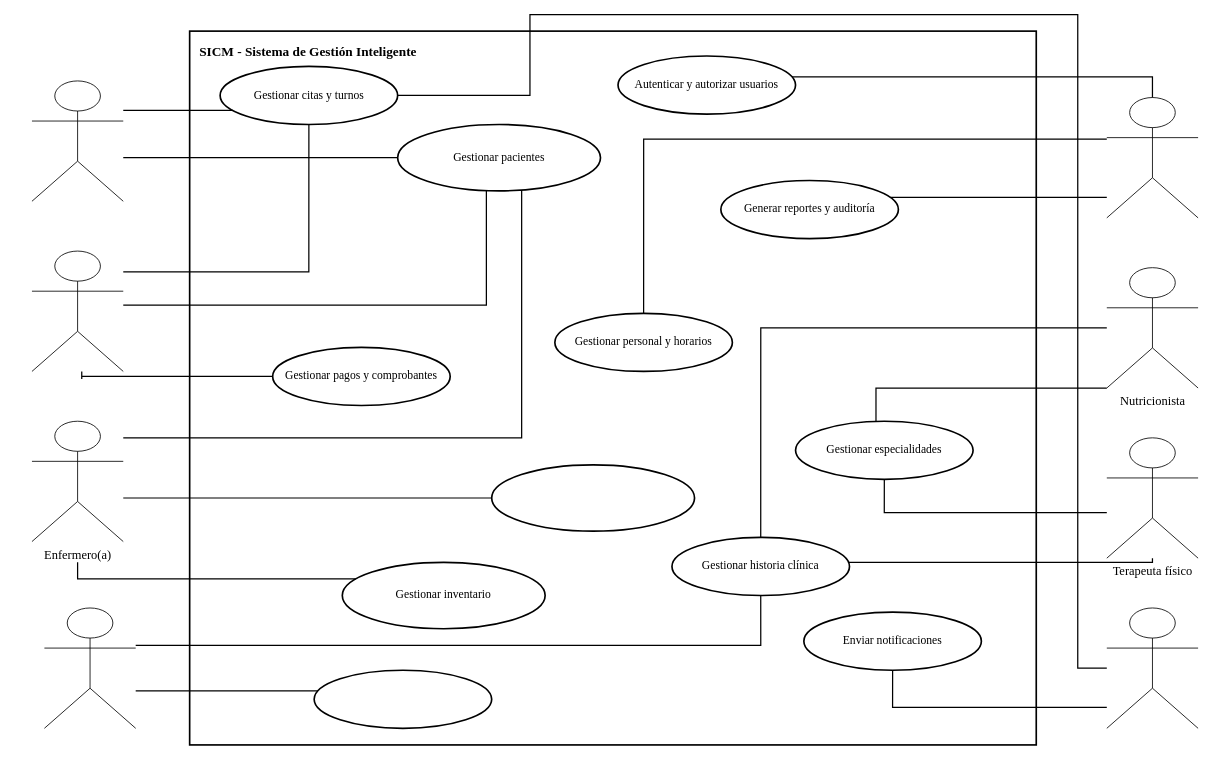
This 1232x764 diagram has some shape labels left out. The shapes that lost their labels are listed below. From the top down, each one's centre as x and y in pixels, then its label:
the point at 77,140: Paciente
the point at 1152,157: Coordinadora
the point at 77,310: Recepcionista
the point at 592,498: Gestionar enfermería
the point at 90,667: Medico General / Odontologa
the point at 1152,667: Sistema de Notificaciones
the point at 402,699: Registrar atención médica
